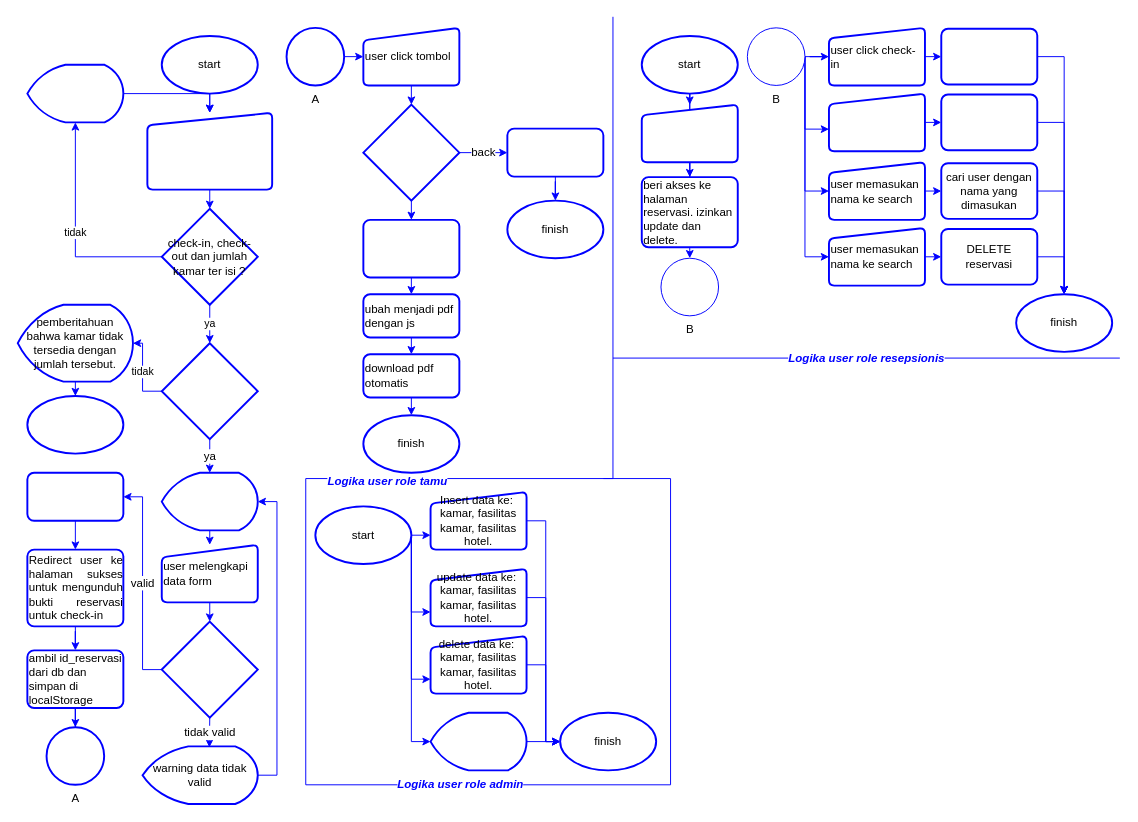
Some shapes in this 1138 by 822 pixel diagram are drawn without their labels. Here are the shapes that lost their labels. From the top down, the centre of each, then its label:
point (989, 56): ubah status reservasi ke CHECKED_IN
point (75, 93): warning ke user untuk mengisi data
point (689, 133): user login dengan role resepsionis
point (876, 122): user memilih tanggal filter
point (989, 122): cari reservasi dengan tanggal yang difilter.
point (209, 150): user memasukan data check- in, check-out dan jumlah kamar yang ingin dipesan
point (411, 152): download / back
point (555, 152): kembali ke halaman home
point (411, 248): ambil bukti reservasi dalam bentuk html lewat REST API.
point (209, 391): jumlah yang ingin dipesan <= jumlah kamar yang tersedia ?
point (75, 424): stop
point (75, 496): Masukan data form ke database
point (209, 501): form pemesanan
point (209, 669): data valid ?
point (478, 741): preview: kamar, fasilitas kamar, fasilitas hotel.
